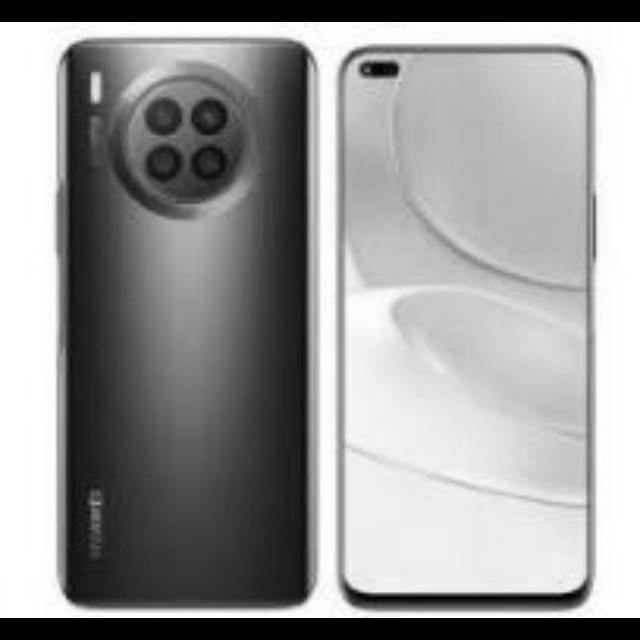fake: (58, 30, 320, 612), (334, 38, 600, 607)
